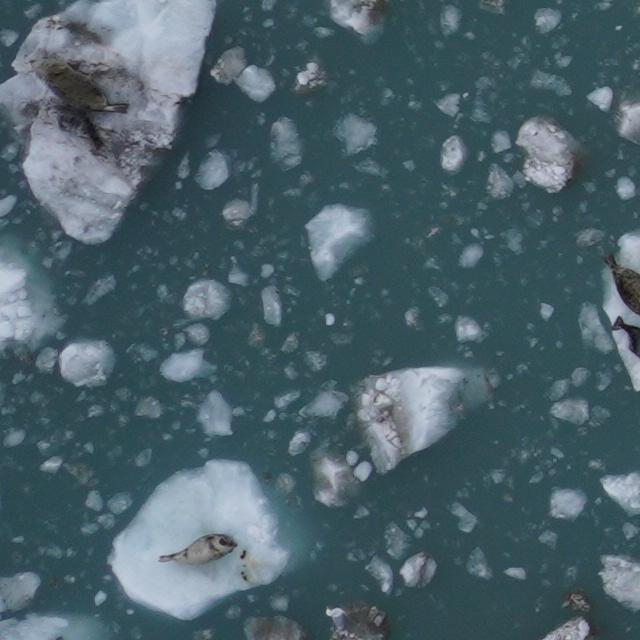seal: (23, 51, 133, 119), (35, 99, 112, 166), (154, 529, 242, 570), (600, 250, 640, 320), (609, 312, 640, 363)
